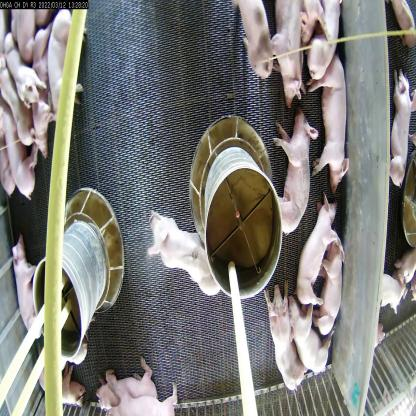Pig: (143, 208, 218, 302), (267, 99, 316, 242), (46, 13, 108, 118), (6, 241, 61, 347), (292, 193, 340, 304), (23, 33, 66, 144), (317, 60, 349, 196), (286, 294, 333, 380), (91, 352, 161, 409), (264, 287, 298, 404), (269, 0, 305, 107), (1, 105, 35, 213), (7, 33, 47, 120), (233, 0, 277, 79), (314, 240, 346, 338), (111, 388, 180, 415)
